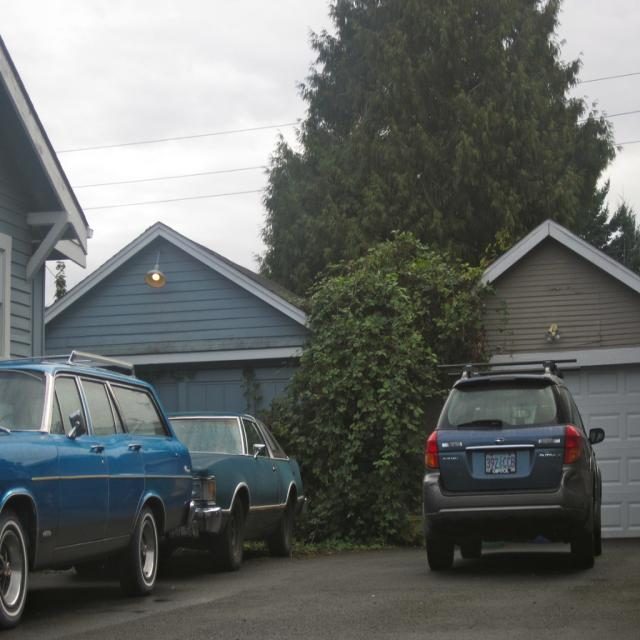car: (417, 367, 609, 581)
